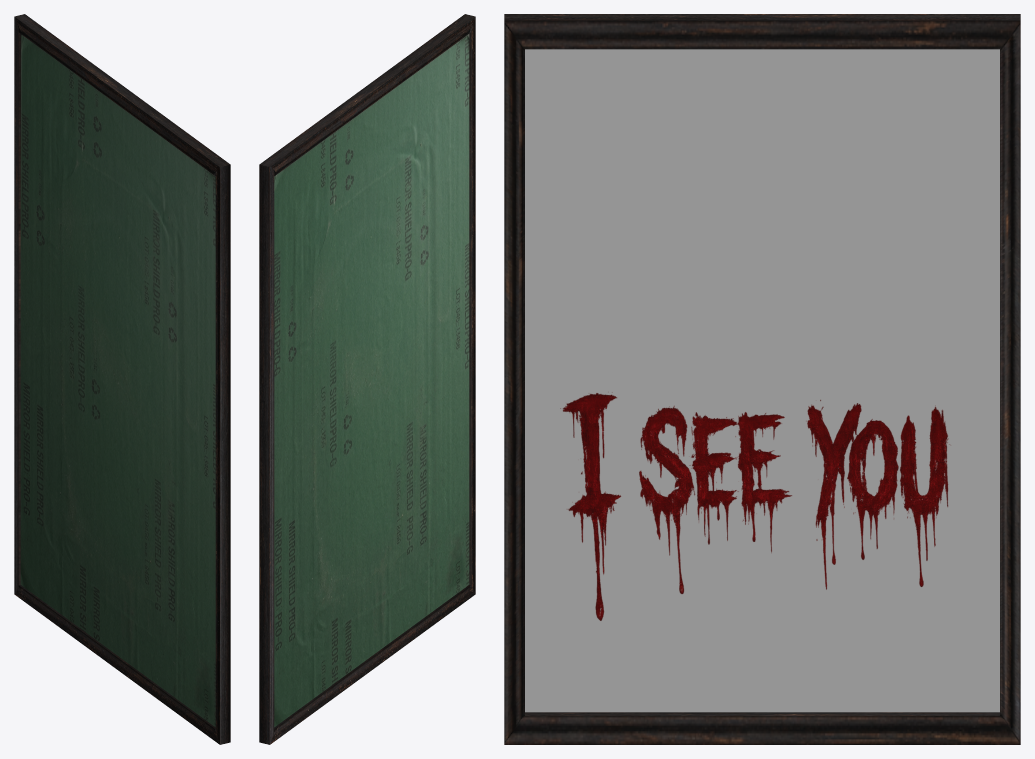
File: mirror.glb
3 renders of one model, left to right at view 1: azimuth 30°, elevation 25°; view 2: azimuth 150°, elevation 25°; view 3: azimuth 270°, elevation 25°, orthographic. The views are drawn at different scales.
Parts seen in each view (by area): view 1: Mirror; view 2: Mirror; view 3: Mirror, Sign.
Boxes of the visible parts, x1,y1,x2,y2 form: Mirror: (14, 14, 230, 744); Mirror: (259, 14, 475, 744); Mirror: (504, 14, 1020, 744); Sign: (560, 392, 949, 620).
Size of the model in its own units: 0.0597 by 3.1 by 2.
Materials: 3 (2 with a texture image).
